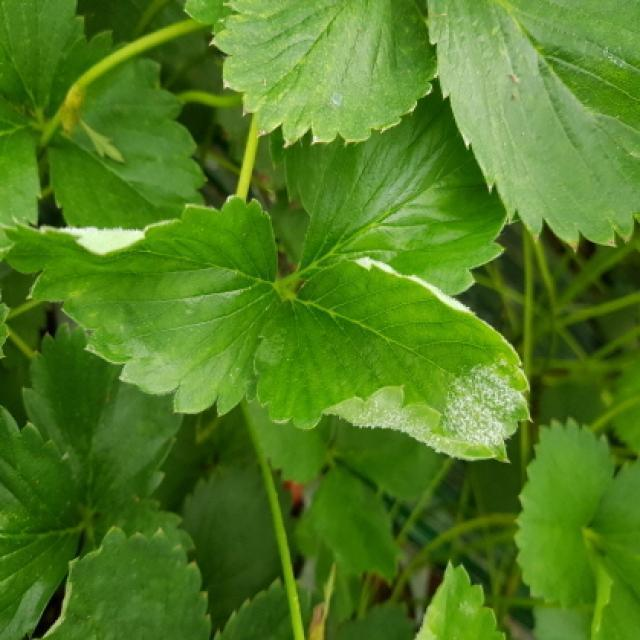powdery_mildew_leaf: (0, 194, 286, 418), (252, 256, 533, 464)
